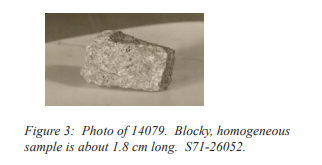Basalt: (68, 27, 177, 93)
